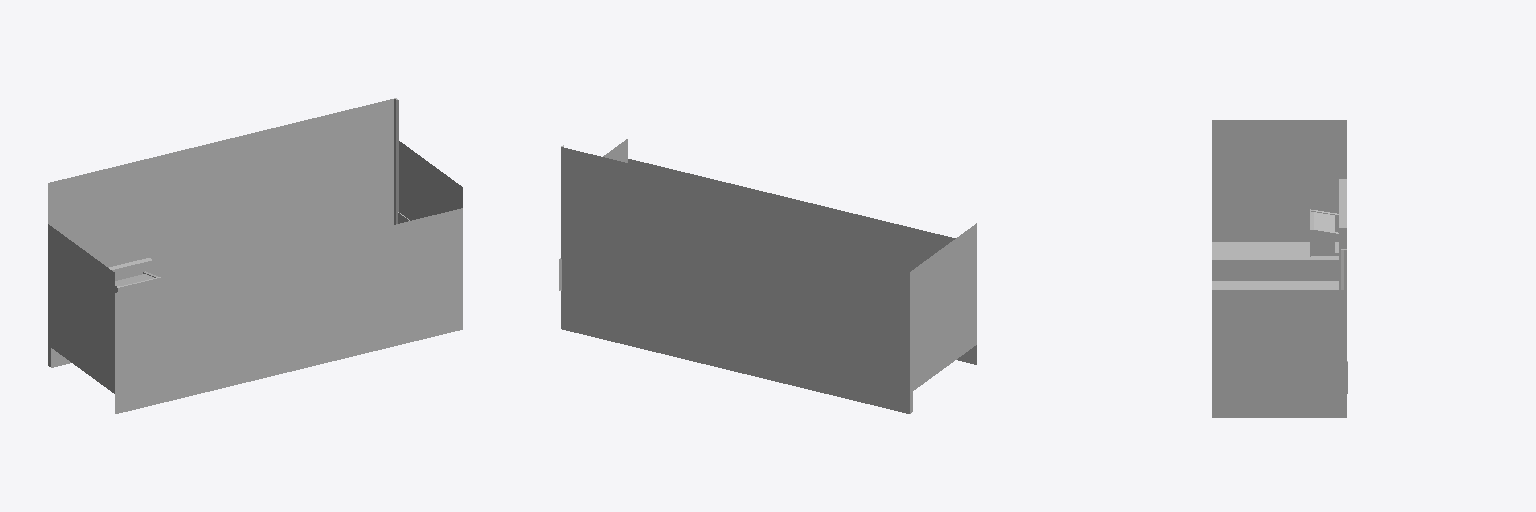
File: Room1.obj
The picture shows the model from 3 angles: view 1: azimuth 30°, elevation 25°; view 2: azimuth 150°, elevation 25°; view 3: azimuth 270°, elevation 25°; orthographic projection.
Visible parts, largest first — view 1: unnamed_object1; view 2: unnamed_object1; view 3: unnamed_object1.
Boxes of the visible parts, <box> form: unnamed_object1: <box>48,98,462,413</box>; unnamed_object1: <box>559,139,976,413</box>; unnamed_object1: <box>1212,120,1347,417</box>.
Bounding box in the file's own units: 903 × 450 × 302.